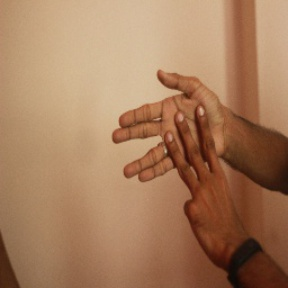M: (111, 70, 238, 195)
